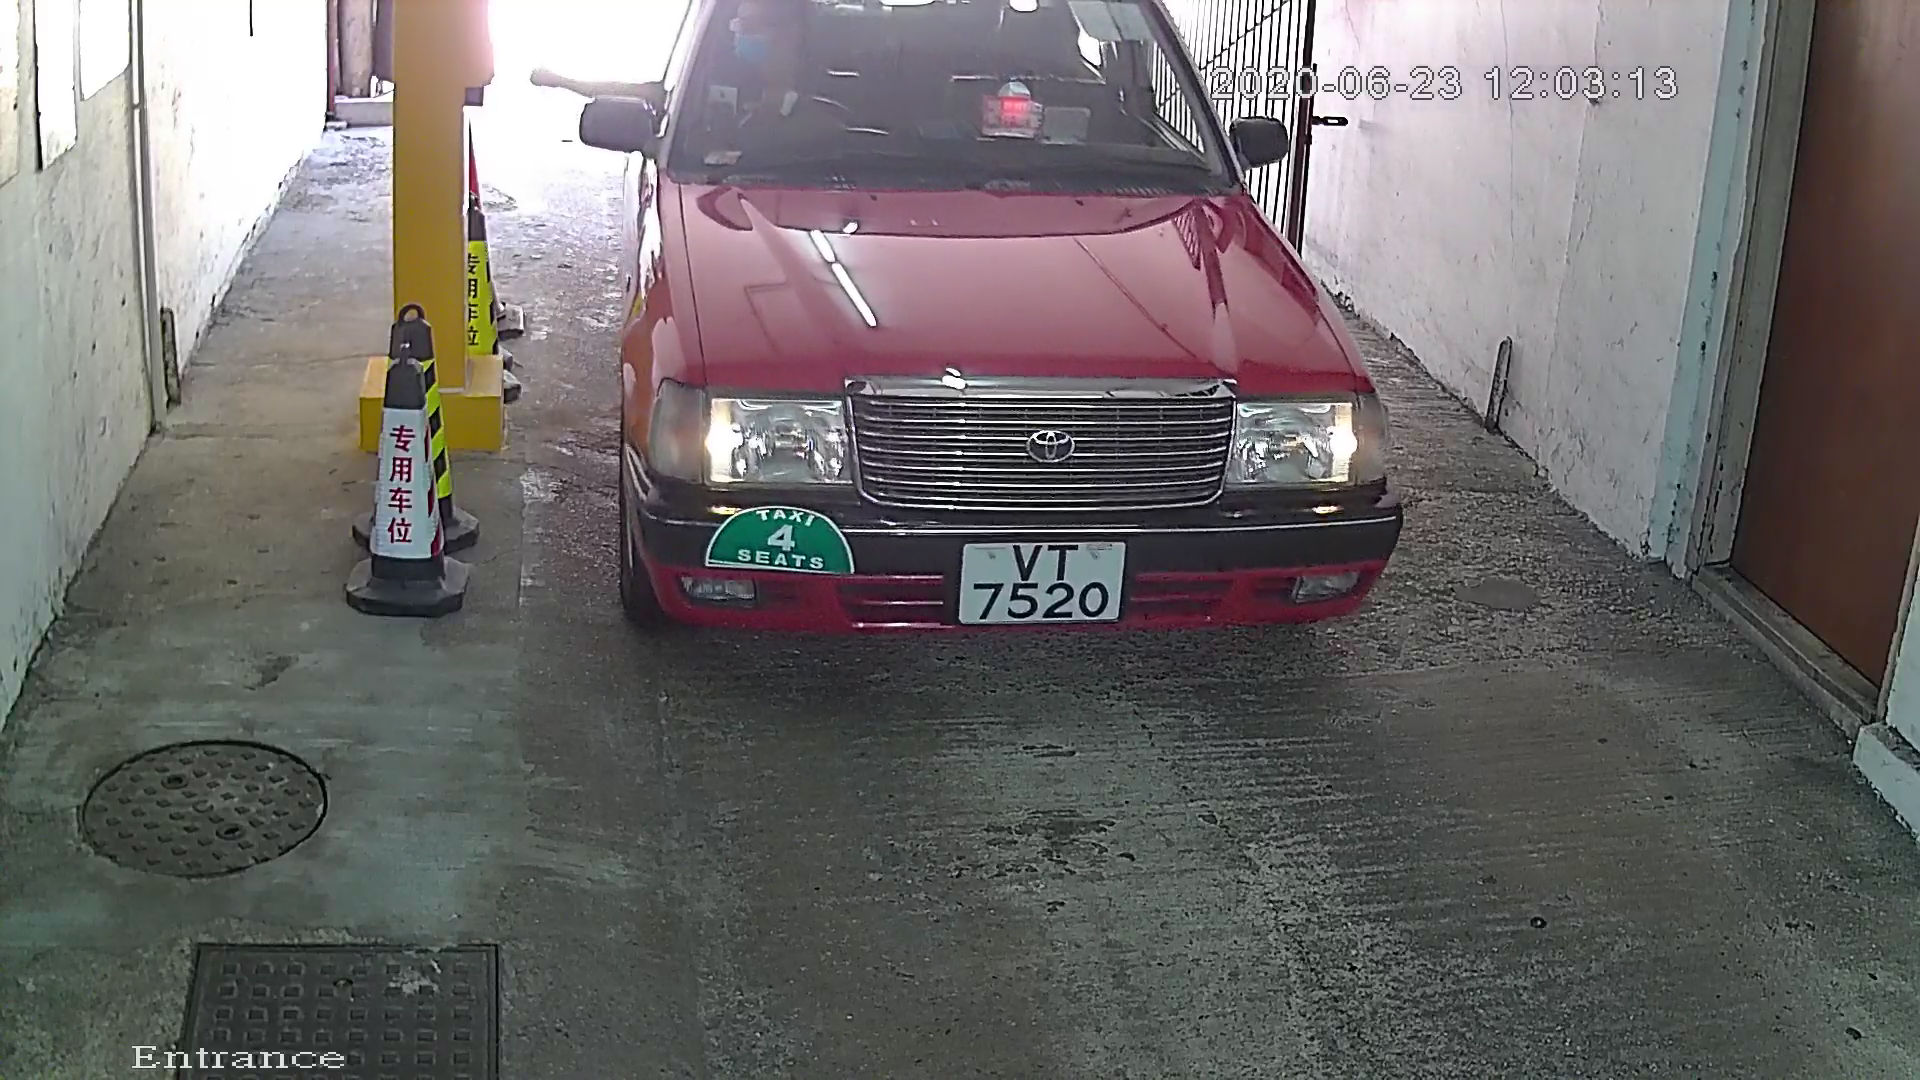taxi: (553, 1, 1455, 719)
taxi_mark: (690, 491, 881, 603)
